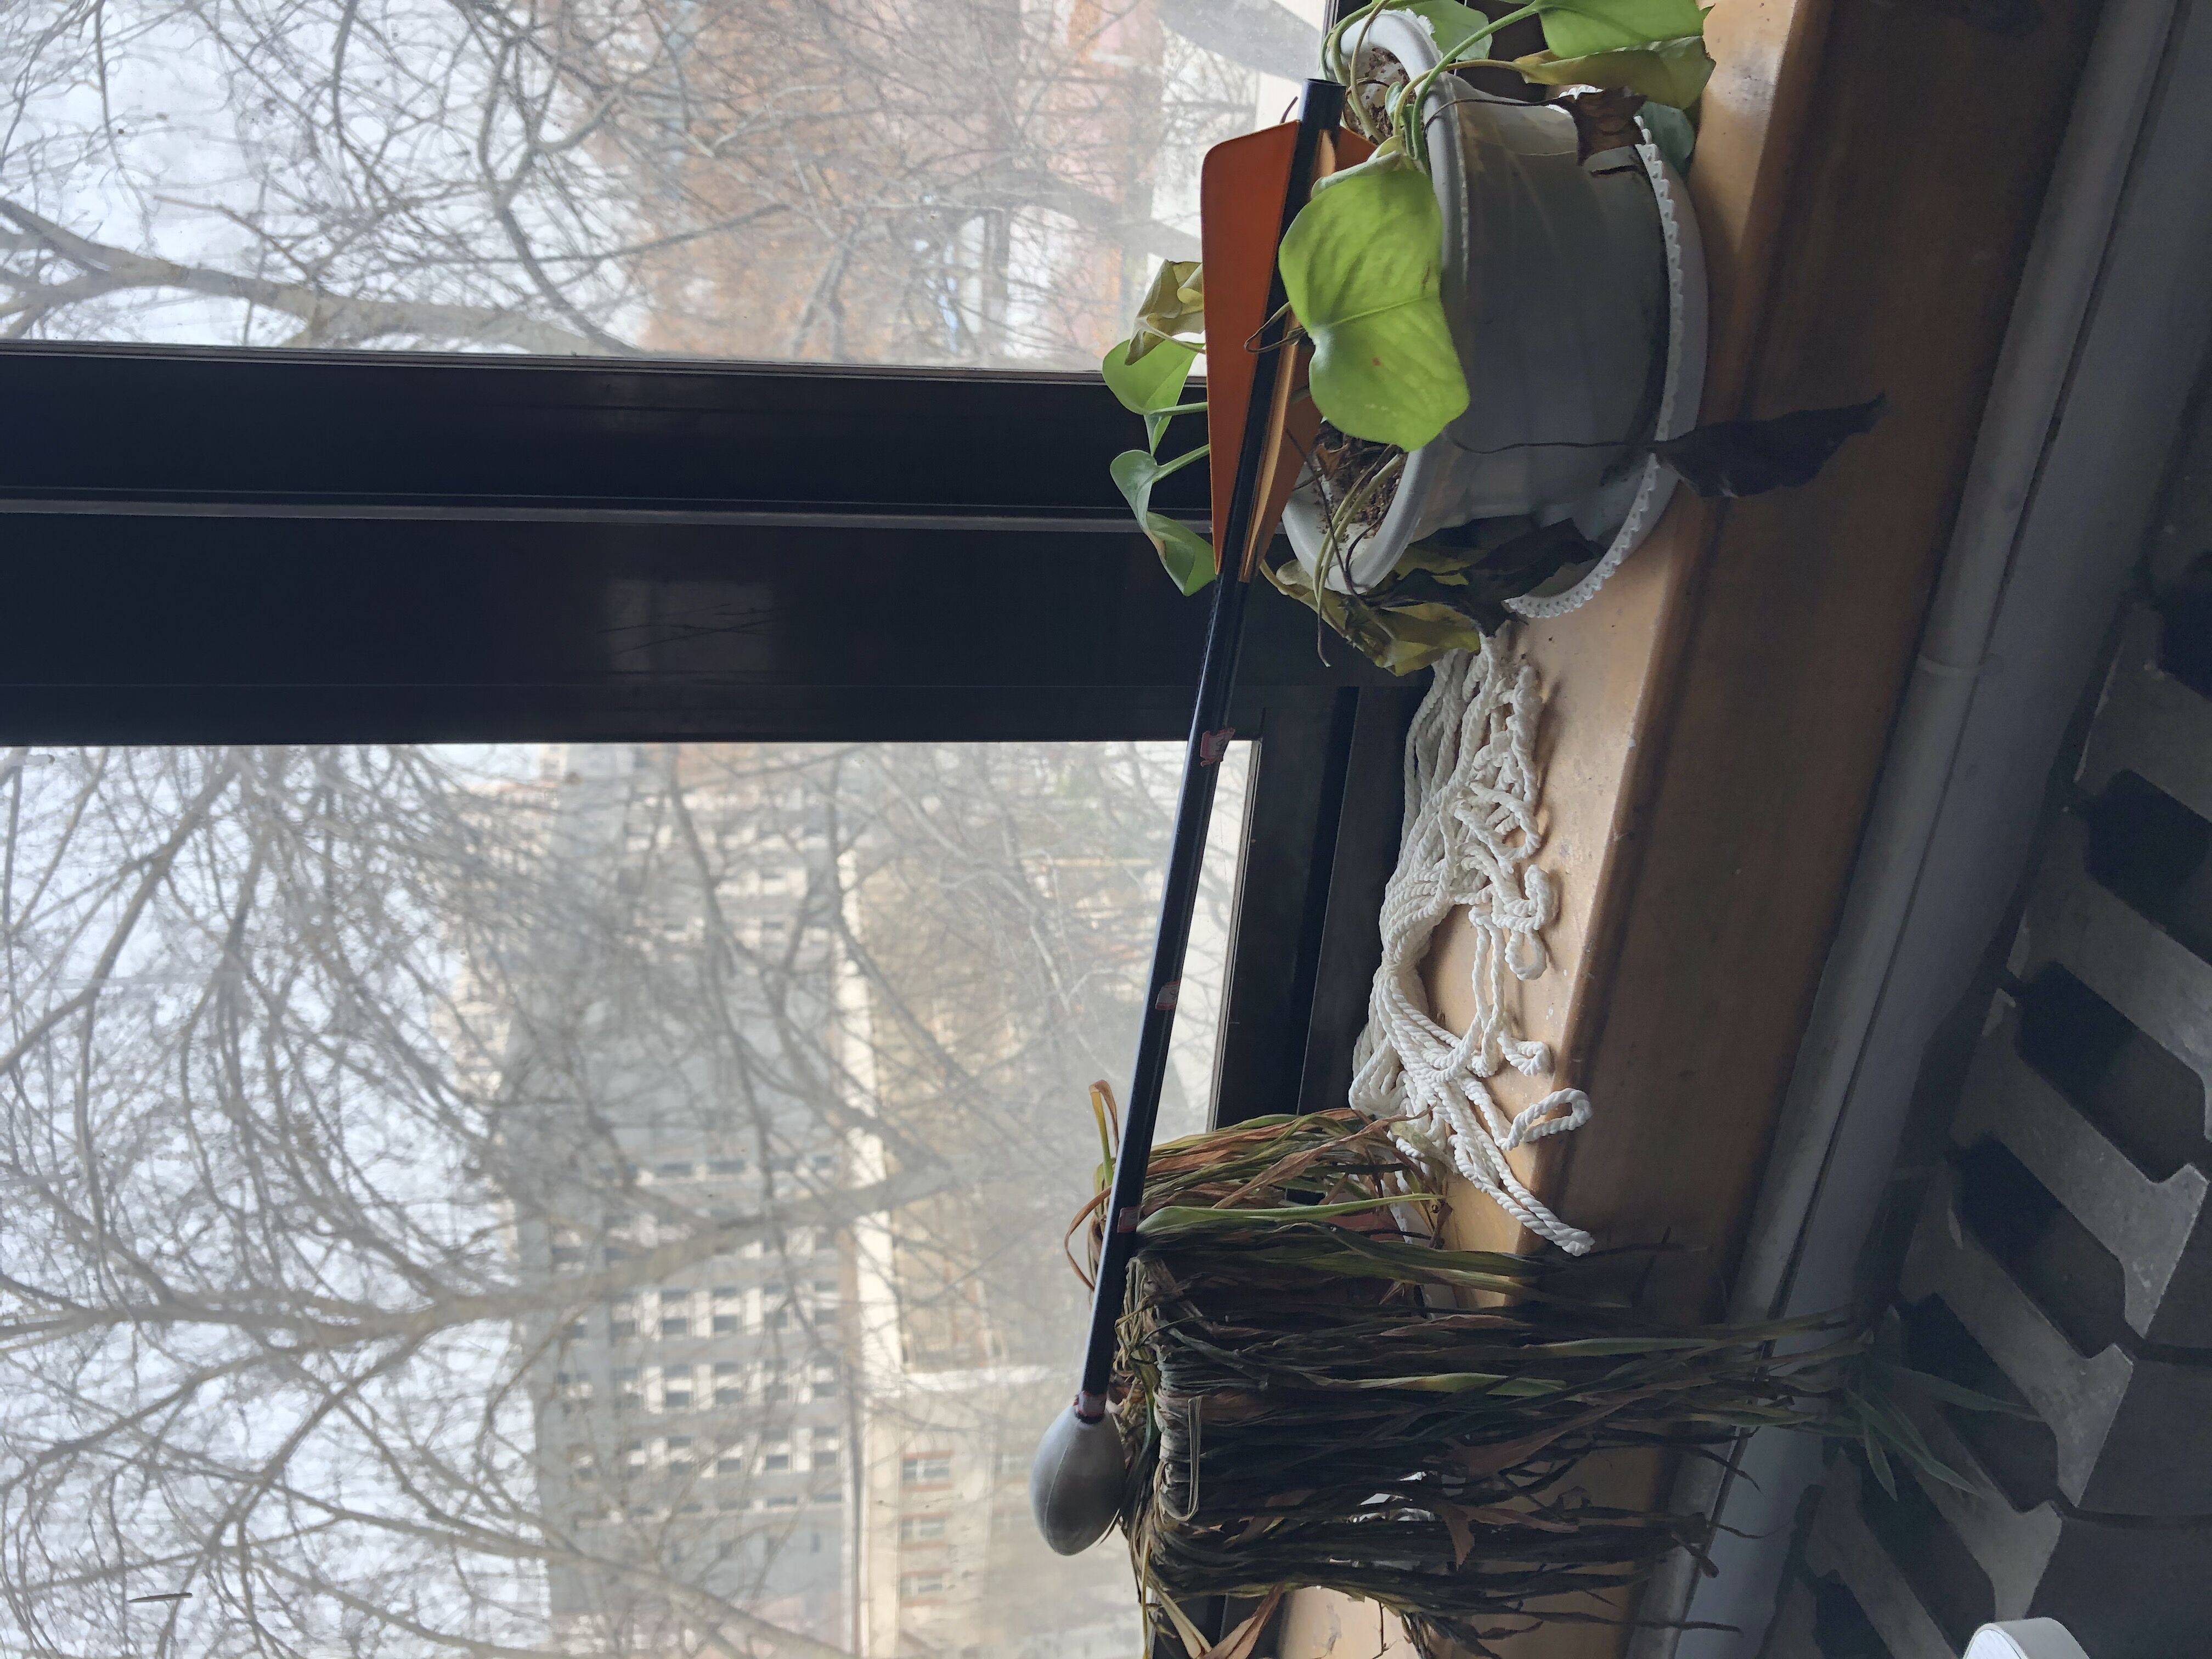arrow: (1028, 80, 1355, 1556)
arrowFront: (1031, 1406, 1125, 1558)
